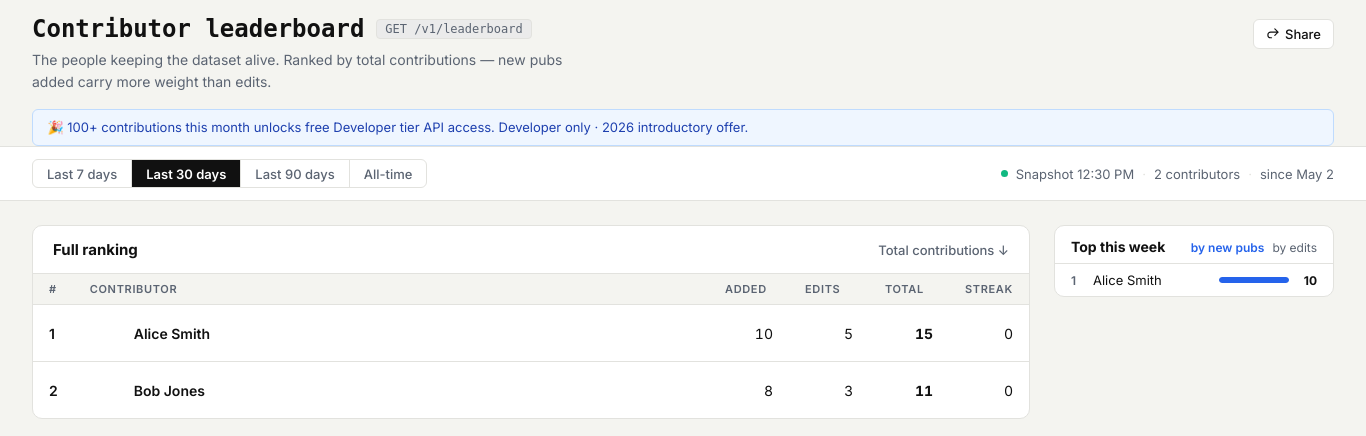
LeaderboardClient › switches leaderboard entries when a different period tab is clicked
Expected: the text "2 contributors" is shown, x1=1154 y1=166 x2=1240 y2=182
Click the button "Last 7 days": (83, 174) x1=33 y1=160 x2=132 y2=187
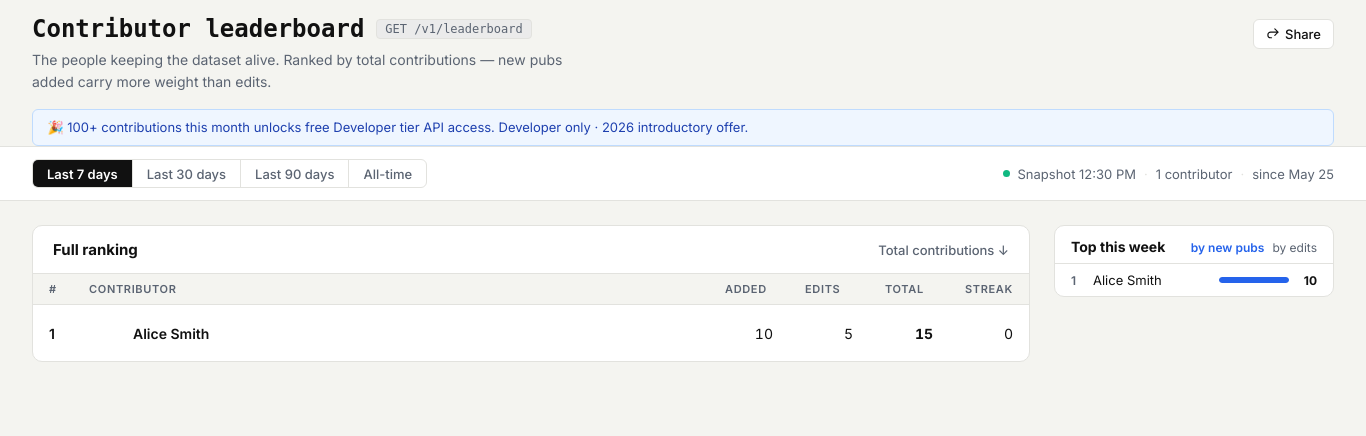
Expected: the text "1 contributor" is shown, x1=1156 y1=166 x2=1232 y2=182
Expected: the text "Bob Jones" is gone
